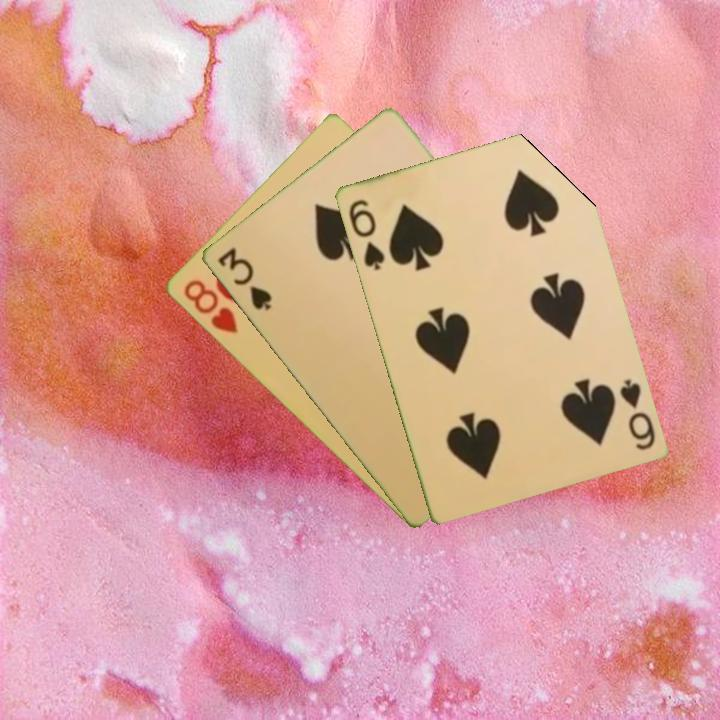3s: (213, 244, 275, 314)
6s: (344, 195, 387, 273), (616, 375, 658, 453)
8h: (179, 276, 241, 337)
